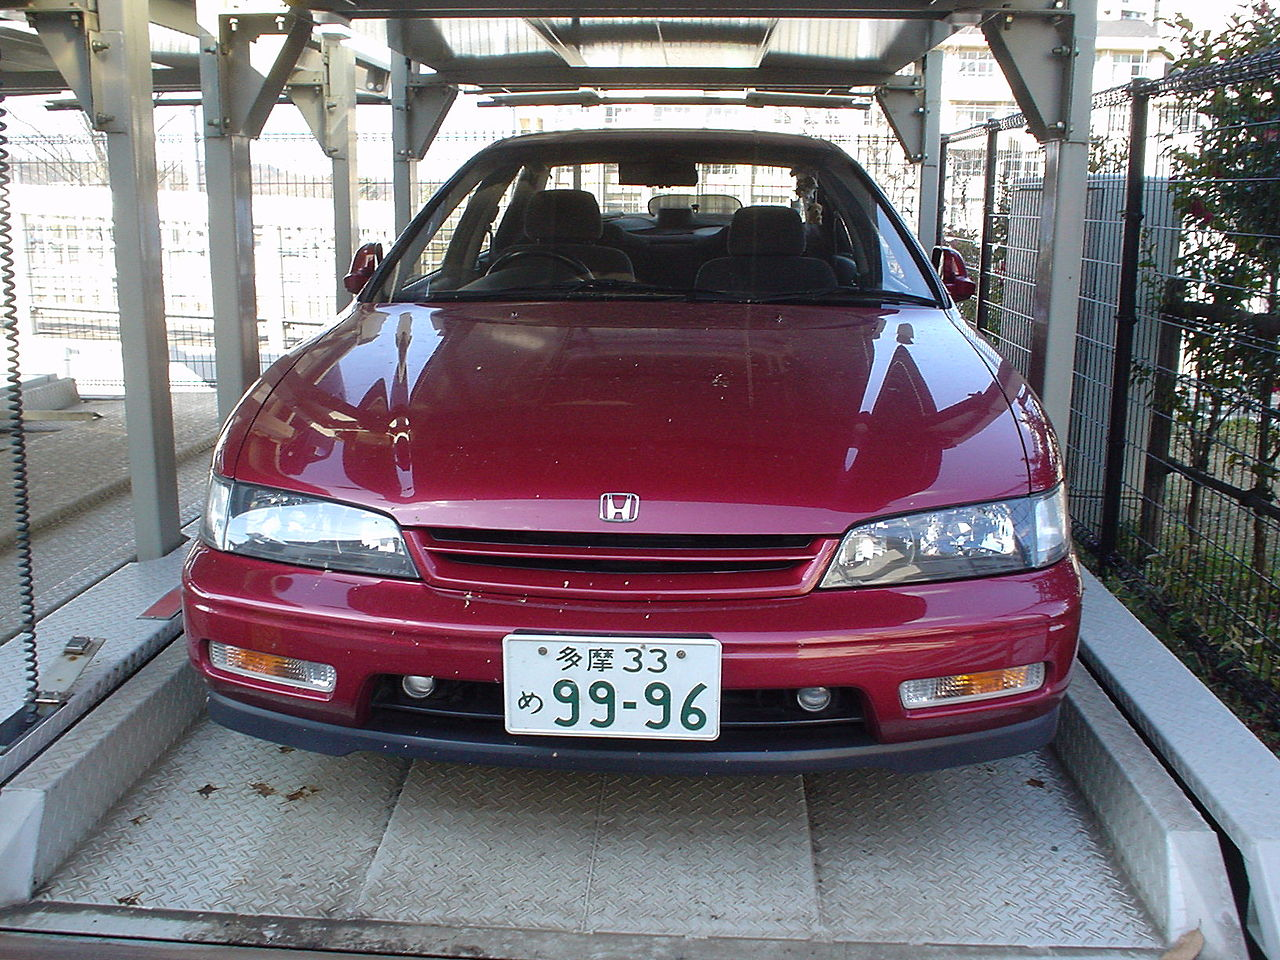plate: (500, 632, 724, 743)
